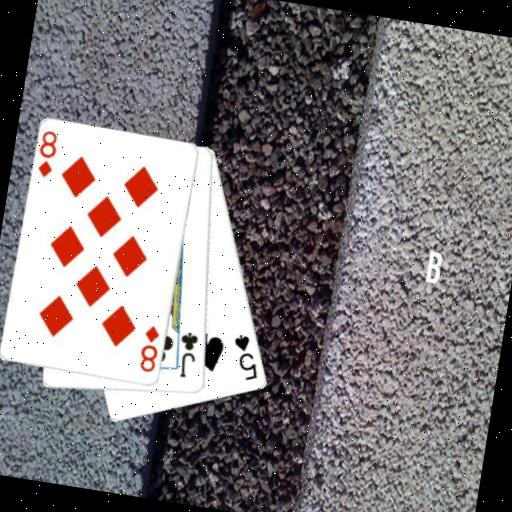5S: (225, 331, 265, 384)
8D: (135, 321, 164, 375), (33, 126, 61, 180)
JC: (172, 328, 202, 381)
